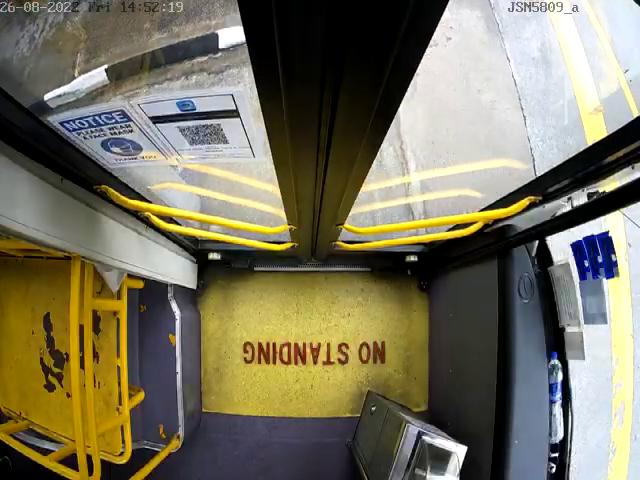close: (0, 0, 640, 133)
